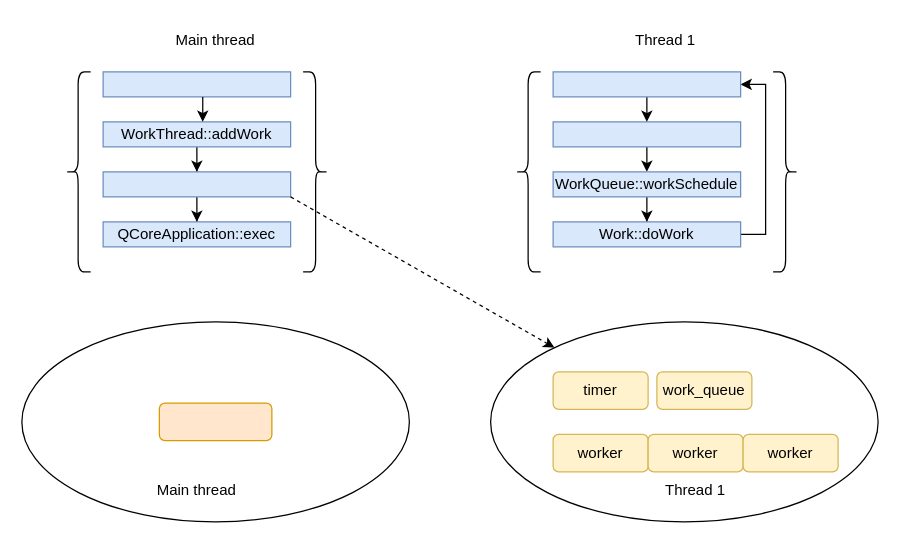
The diagram is 900 pixels wide and 544 high, and some of its shapes have lost their labels. The centre of each missing label's shape, as x and y in pixels:
"QPushButton::clicked" belongs at point (196, 84).
"QThread::exec" belongs at point (646, 84).
"QTimer::timerout" belongs at point (646, 134).
"work_thread" belongs at point (215, 421).
"WorkQueue::addWork" belongs at point (196, 184).
